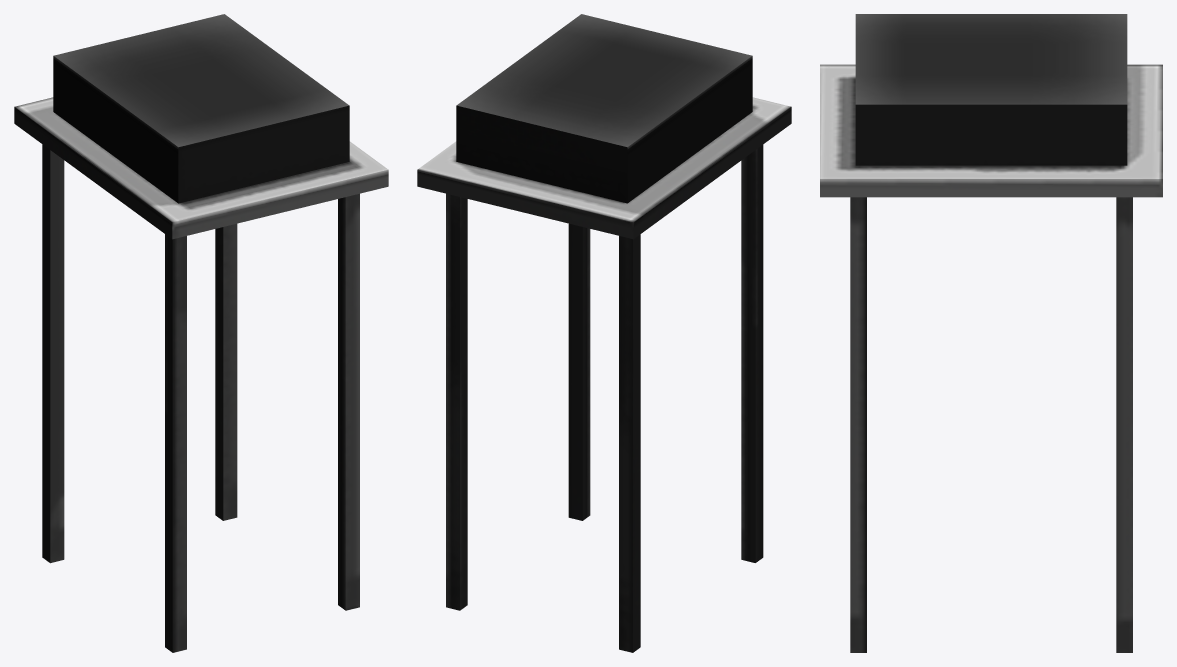
File: Tx_prop_projector_computing.fbx
3 renders of one model, left to right at view 1: azimuth 30°, elevation 25°; view 2: azimuth 150°, elevation 25°; view 3: azimuth 270°, elevation 25°, orthographic. The views are drawn at different scales.
Parts seen in each view (by area): view 1: Tx_prop_projector_computing; view 2: Tx_prop_projector_computing; view 3: Tx_prop_projector_computing.
Boxes of the visible parts, x1,y1,x2,y2 form: Tx_prop_projector_computing: (14,14,388,652); Tx_prop_projector_computing: (417,14,791,652); Tx_prop_projector_computing: (820,14,1162,652).
Size of the model in its own units: 3.32 by 7.38 by 4.21.
